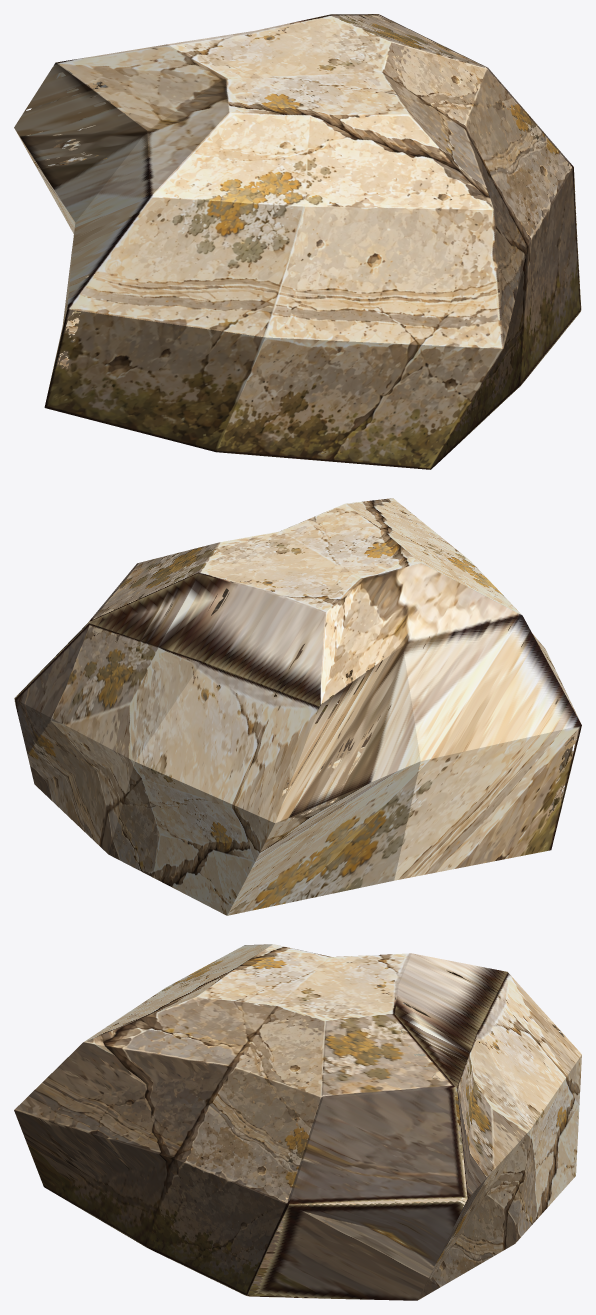
Rendered from rock_b.glb.
The picture shows the model from 3 angles, top to bottom: view 1: azimuth 30°, elevation 25°; view 2: azimuth 150°, elevation 25°; view 3: azimuth 270°, elevation 25°; orthographic projection. The views are drawn at different scales.
Parts seen in each view (by area): view 1: rock_b_game; view 2: rock_b_game; view 3: rock_b_game.
Boxes of the visible parts, box(x1,y1,x2,y2) form: rock_b_game: box(14, 14, 581, 469); rock_b_game: box(14, 498, 581, 915); rock_b_game: box(14, 944, 581, 1300).
Size of the model in its own units: 2.86 by 1.4 by 3.29.
1 material, 1 textured.
